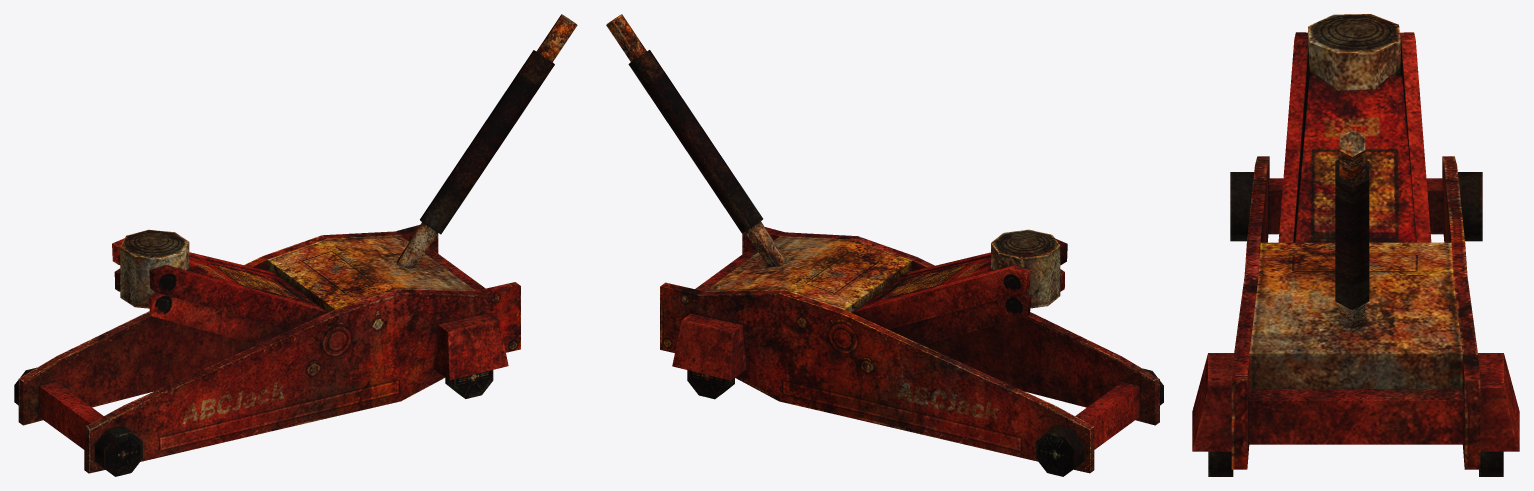
File: tools_jack.FBX
3 views of the same model, side by side, from view 1: azimuth 30°, elevation 25°; view 2: azimuth 150°, elevation 25°; view 3: azimuth 270°, elevation 25° (orthographic). The views are drawn at different scales.
Visible parts, largest first — view 1: tools_jack; view 2: tools_jack; view 3: tools_jack.
Part boxes in pixels (left/top/right/bottom): tools_jack: left=14, top=14, right=577, bottom=476; tools_jack: left=606, top=14, right=1163, bottom=476; tools_jack: left=1192, top=14, right=1519, bottom=476.
Bounding box in the file's own units: 0.8866 × 0.5046 × 0.3418.
